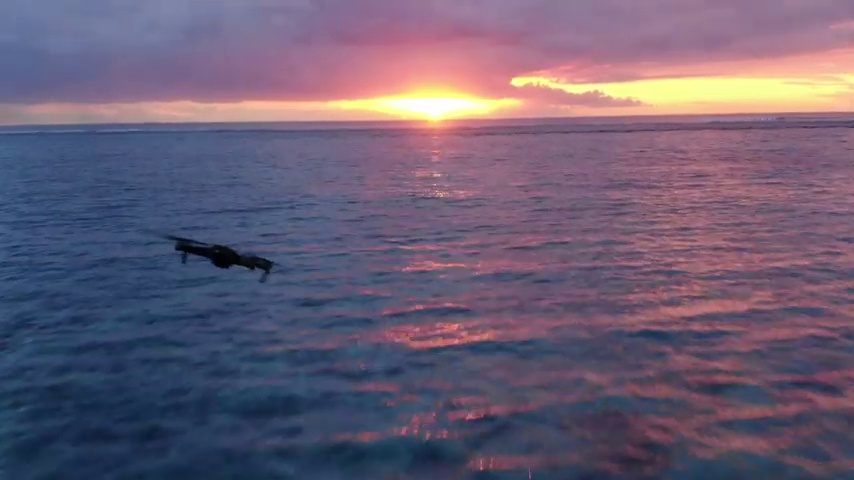drone: (170, 234, 275, 283)
